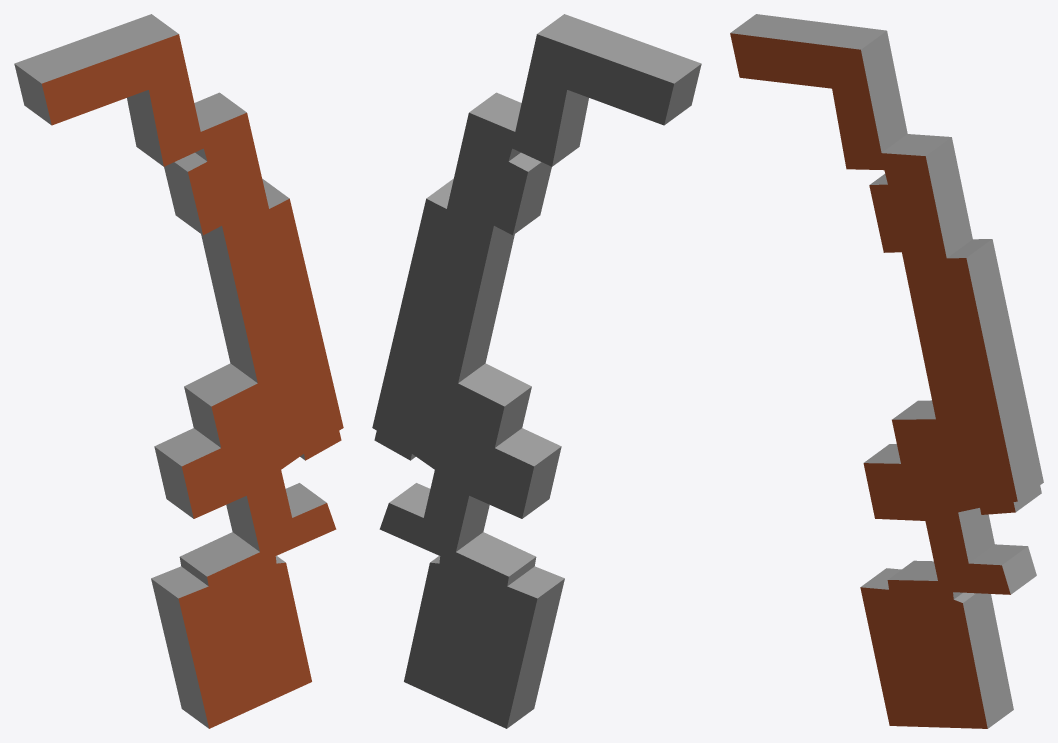
Rendered from construction_4212_assumed_A_Casa_h6m.obj.
3 renders of one model, left to right at view 1: azimuth 30°, elevation 25°; view 2: azimuth 150°, elevation 25°; view 3: azimuth 330°, elevation 25°, orthographic. The views are drawn at different scales.
Visible parts, largest first — view 1: construction_4212_assumed_A_Casa; view 2: construction_4212_assumed_A_Casa; view 3: construction_4212_assumed_A_Casa.
Boxes of the visible parts, box(x1,y1,x2,y2) form: construction_4212_assumed_A_Casa: box(14, 14, 343, 728); construction_4212_assumed_A_Casa: box(372, 14, 701, 728); construction_4212_assumed_A_Casa: box(730, 14, 1043, 728).
Size of the model in its own units: 38.09 by 84.64 by 6.
